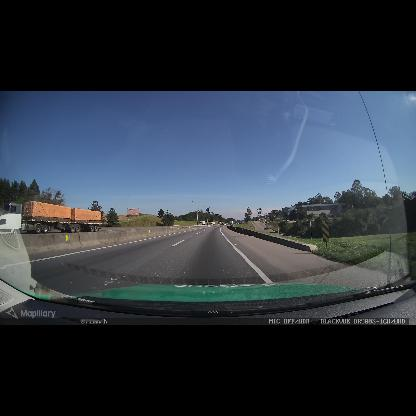O-MP: (321, 221, 329, 242)
